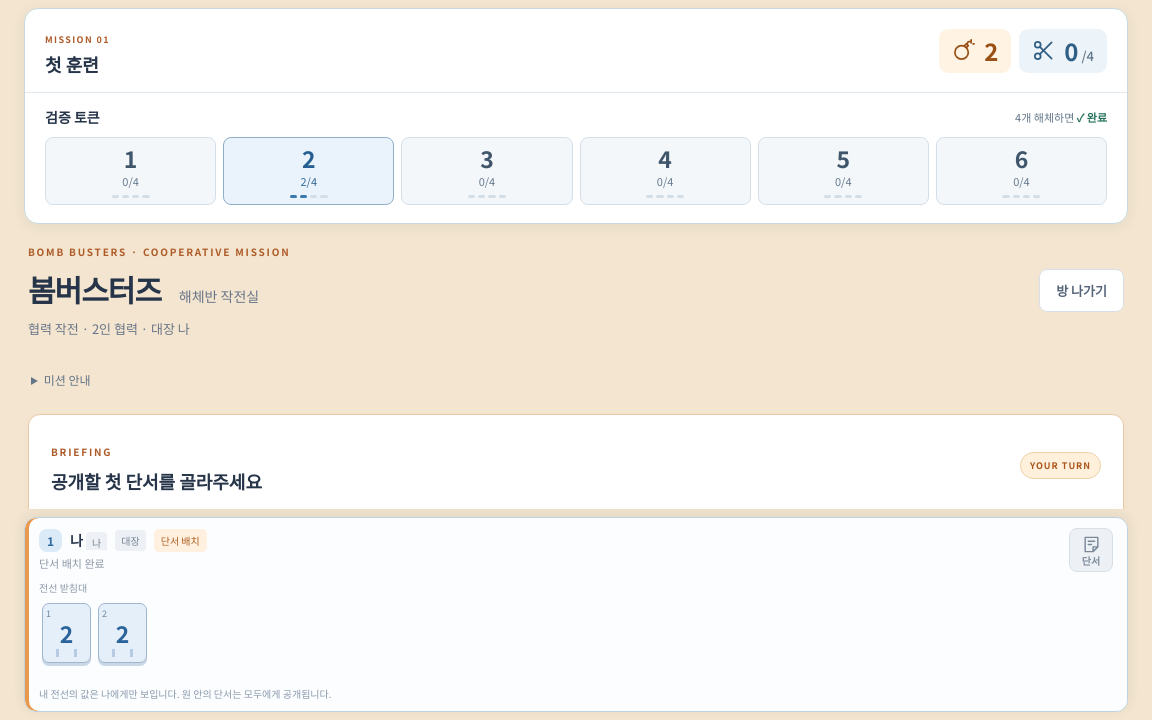
Test: setup places a clue without issuing a cut
expect the button with aria-label "단서 배치 실행" is disabled: met, box [1069, 528, 1113, 572]
Click the button named "나 받침대 1, 2번 전선: 2".
click(122, 633)  # box [98, 603, 147, 663]
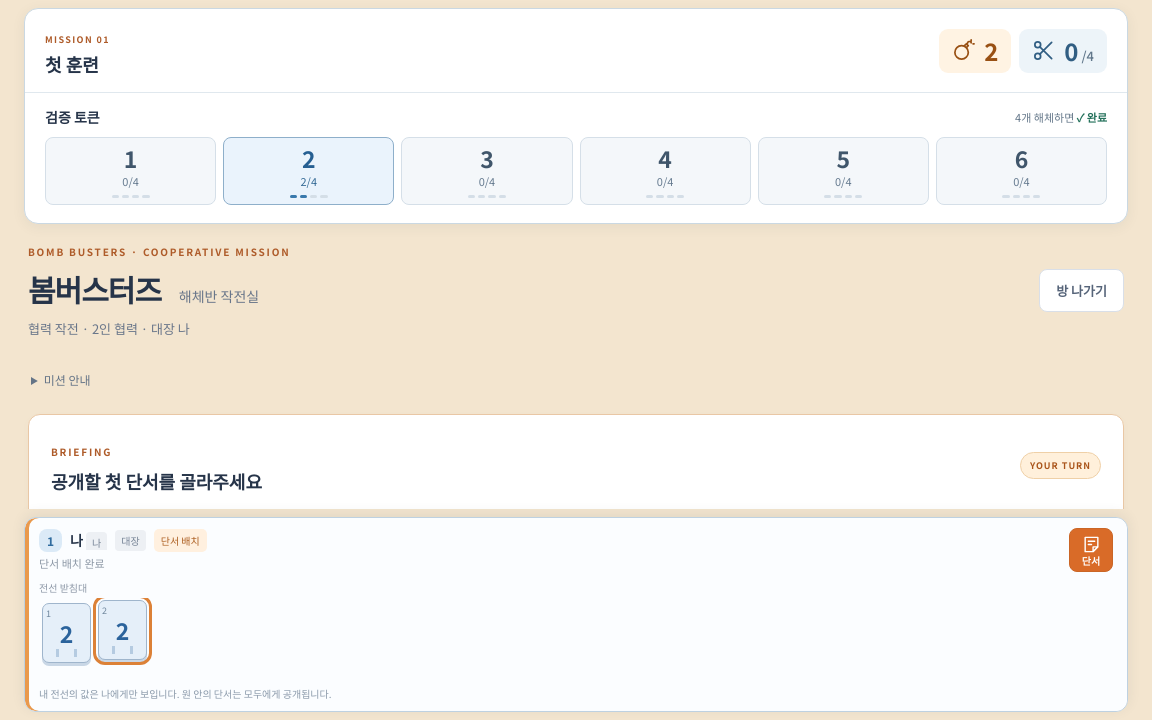
expect the button with aria-label "단서 배치 실행" is enabled: met
Click the button with aria-label "단서 배치 실행".
click(1091, 550)  # box [1069, 528, 1113, 572]
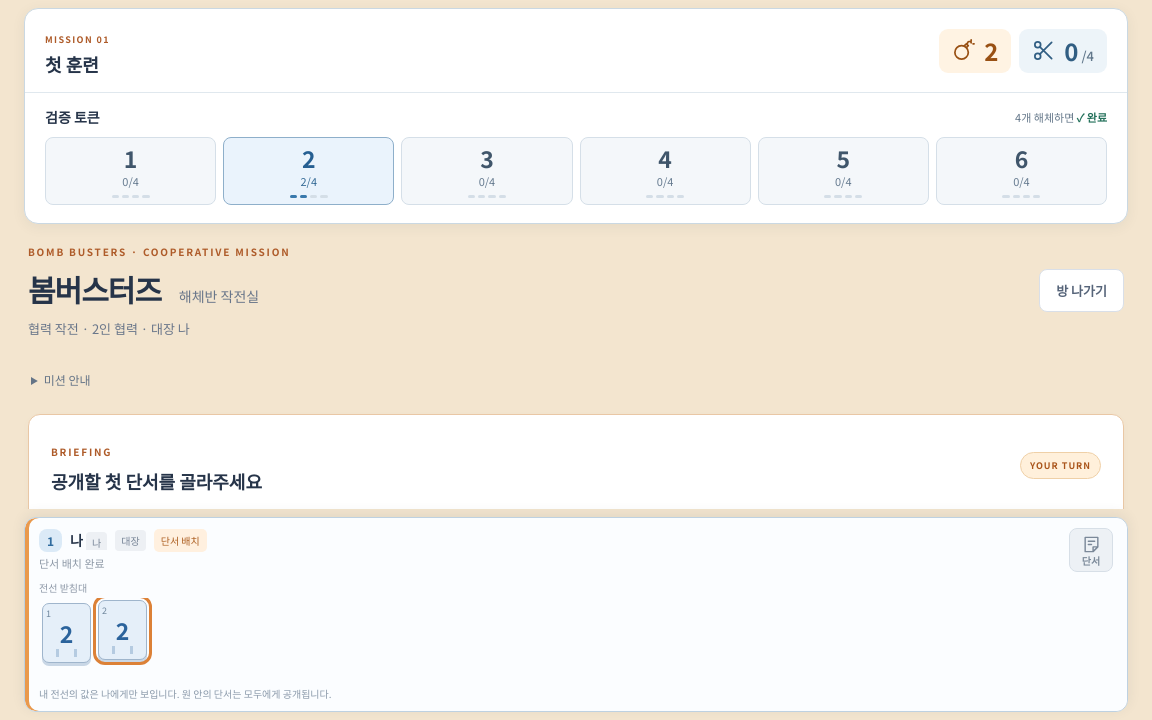
expect the button with aria-label "단서 배치 실행" is disabled: met, box [1069, 528, 1113, 572]
